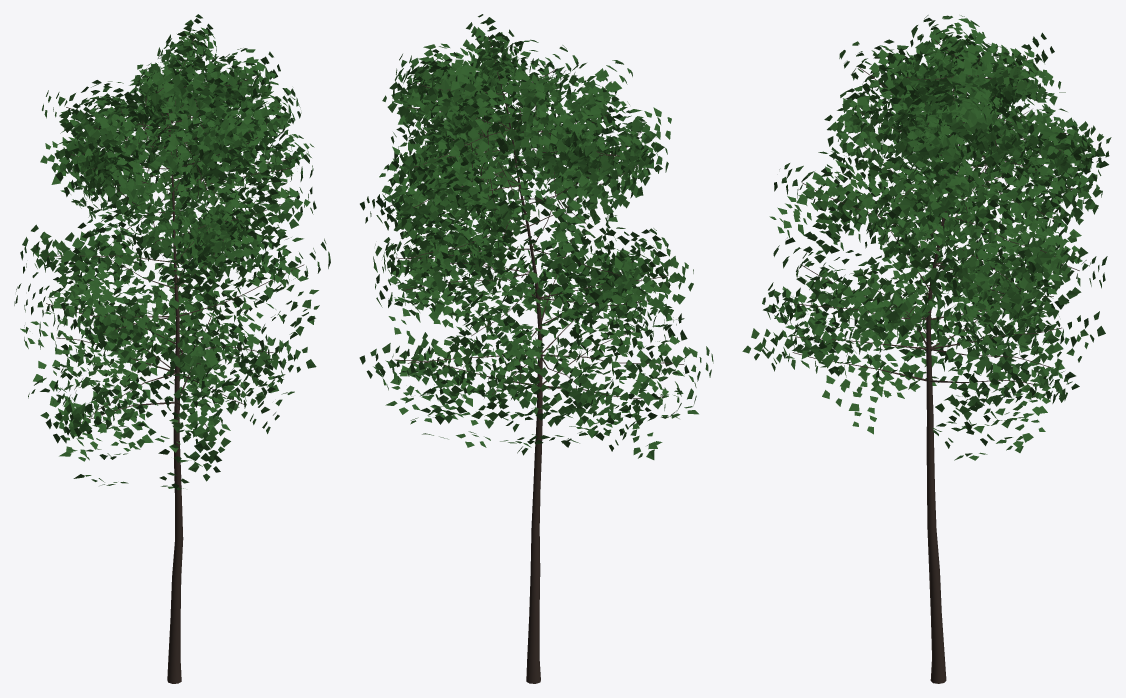
3 views of the same model, side by side, from view 1: azimuth 30°, elevation 25°; view 2: azimuth 150°, elevation 25°; view 3: azimuth 270°, elevation 25° (orthographic). The views are drawn at different scales.
Parts seen in each view (by area): view 1: QAP0022F, QAP0028F, QAP0027F, QAP0017F, QAP0035F, QAP0040F, QAP0003F, QAP0001B, QAP0025F, QAP0033F, QAP0012F, QAP0034F (+32 smaller); view 2: QAP0028F, QAP0022F, QAP0004F, QAP0014F, QAP0001B, QAP0033F, QAP0031F, QAP0018F, QAP0040F, QAP0044F, QAP0008F, QAP0045F (+32 smaller); view 3: QAP0027F, QAP0020F, QAP0035F, QAP0001B, QAP0003F, QAP0044F, QAP0026F, QAP0038F, QAP0017F, QAP0014F, QAP0023F, QAP0004F (+31 smaller).
Boxes of the visible parts, x1=… form: QAP0022F: x1=79, y1=150, x2=204, y2=280; QAP0028F: x1=20, y1=205, x2=143, y2=307; QAP0027F: x1=174, y1=202, x2=286, y2=310; QAP0017F: x1=160, y1=108, x2=279, y2=222; QAP0035F: x1=164, y1=294, x2=316, y2=410; QAP0040F: x1=53, y1=334, x2=158, y2=461; QAP0003F: x1=163, y1=57, x2=270, y2=118; QAP0001B: x1=167, y1=67, x2=183, y2=683; QAP0025F: x1=169, y1=167, x2=316, y2=277; QAP0033F: x1=14, y1=252, x2=152, y2=375; QAP0012F: x1=68, y1=94, x2=188, y2=189; QAP0034F: x1=68, y1=269, x2=179, y2=386; QAP0028F: x1=534, y1=209, x2=651, y2=321; QAP0022F: x1=529, y1=106, x2=671, y2=254; QAP0004F: x1=392, y1=60, x2=506, y2=125; QAP0014F: x1=381, y1=140, x2=512, y2=250; QAP0001B: x1=498, y1=76, x2=542, y2=683; QAP0033F: x1=548, y1=248, x2=685, y2=372; QAP0031F: x1=449, y1=248, x2=544, y2=365; QAP0018F: x1=459, y1=143, x2=556, y2=274; QAP0040F: x1=568, y1=299, x2=713, y2=432; QAP0044F: x1=359, y1=332, x2=538, y2=447; QAP0008F: x1=387, y1=81, x2=500, y2=200; QAP0045F: x1=541, y1=332, x2=696, y2=459; QAP0027F: x1=769, y1=151, x2=914, y2=254; QAP0020F: x1=950, y1=135, x2=1083, y2=250; QAP0035F: x1=762, y1=250, x2=920, y2=376; QAP0001B: x1=926, y1=57, x2=980, y2=683; QAP0003F: x1=880, y1=46, x2=987, y2=113; QAP0044F: x1=932, y1=330, x2=1068, y2=460; QAP0026F: x1=937, y1=225, x2=1047, y2=331; QAP0038F: x1=932, y1=282, x2=1079, y2=431; QAP0017F: x1=837, y1=86, x2=962, y2=208; QAP0014F: x1=990, y1=120, x2=1102, y2=221; QAP0023F: x1=955, y1=171, x2=1080, y2=298; QAP0004F: x1=968, y1=52, x2=1061, y2=124.
Size of the model in its own units: 4542 by 9188 by 4688.
